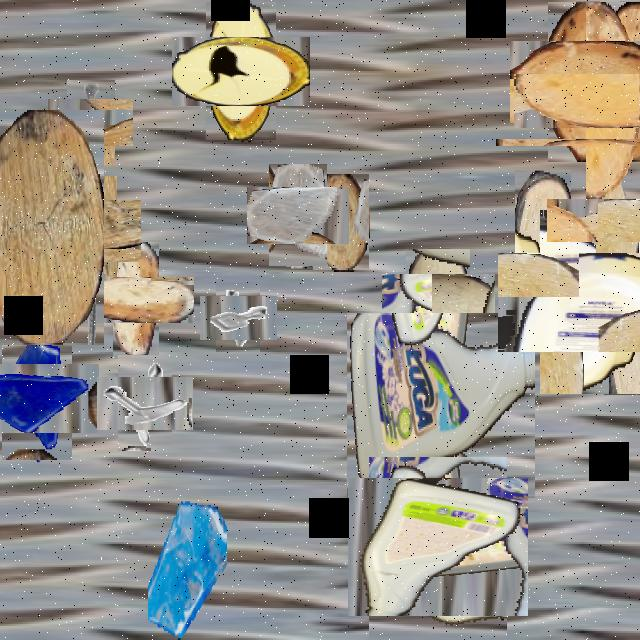glass: (148, 500, 226, 638), (0, 349, 85, 446), (258, 175, 338, 255)
metal: (43, 188, 129, 274), (108, 366, 182, 441), (58, 89, 124, 156), (208, 288, 268, 348)
plastic: (347, 313, 535, 498), (358, 468, 518, 627), (519, 230, 640, 373), (403, 386, 469, 602), (564, 69, 640, 214), (189, 19, 293, 123)
wood: (0, 110, 104, 345), (528, 21, 640, 142), (549, 38, 640, 164), (393, 262, 482, 351), (95, 260, 177, 341), (571, 174, 640, 267), (313, 174, 369, 270), (515, 170, 571, 266)
